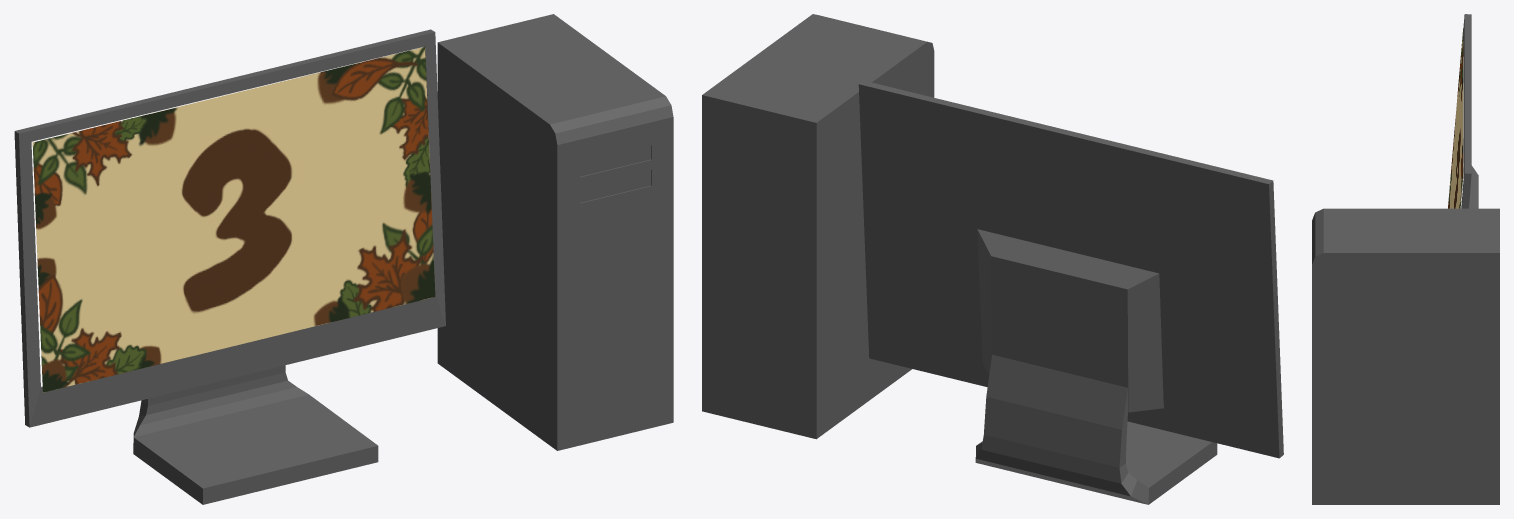
File: computer3.gltf
3 renders of one model, left to right at view 1: azimuth 30°, elevation 25°; view 2: azimuth 150°, elevation 25°; view 3: azimuth 270°, elevation 25°, orthographic. The views are drawn at different scales.
Visible parts, largest first — view 1: computer.001, Fläche.001; view 2: computer.001; view 3: computer.001, Fläche.001.
Boxes of the visible parts, x1,y1,x2,y2 form: computer.001: [14, 14, 673, 504]; Fläche.001: [32, 47, 435, 392]; computer.001: [702, 14, 1283, 504]; computer.001: [1312, 14, 1499, 504]; Fläche.001: [1448, 28, 1463, 208].
Size of the model in its own units: 5.37 by 3.26 by 2.
3 materials, 1 textured.
